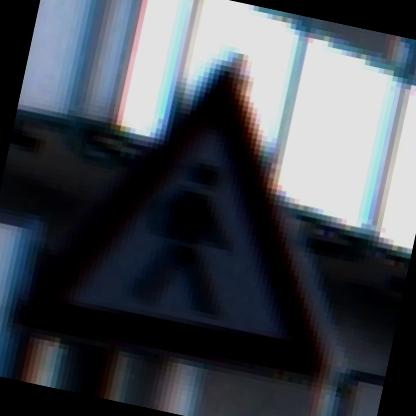crosswalk: (36, 19, 396, 392)
